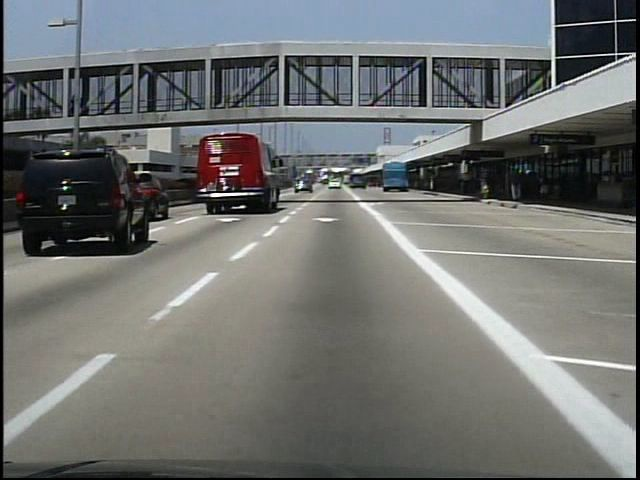person: (536, 170, 553, 204)
